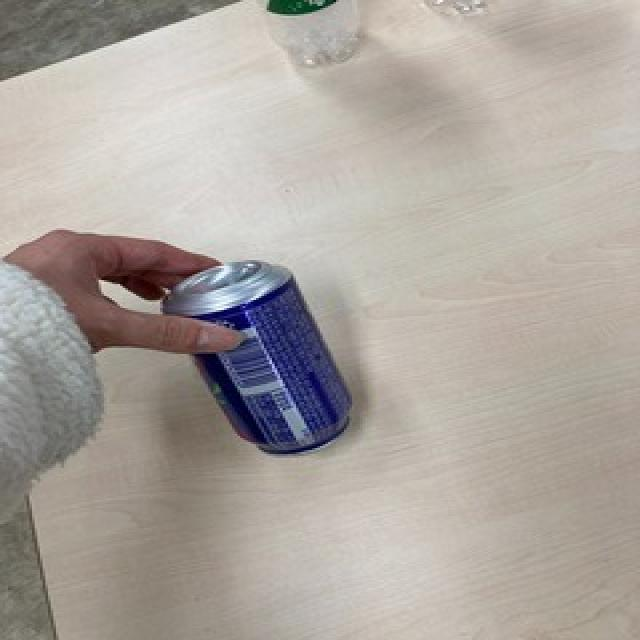can: (158, 255, 358, 459)
